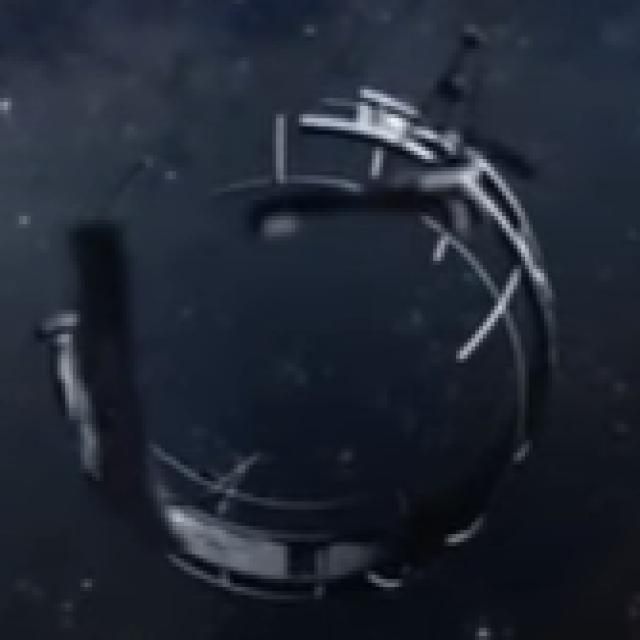large_debris: (32, 12, 576, 616)
